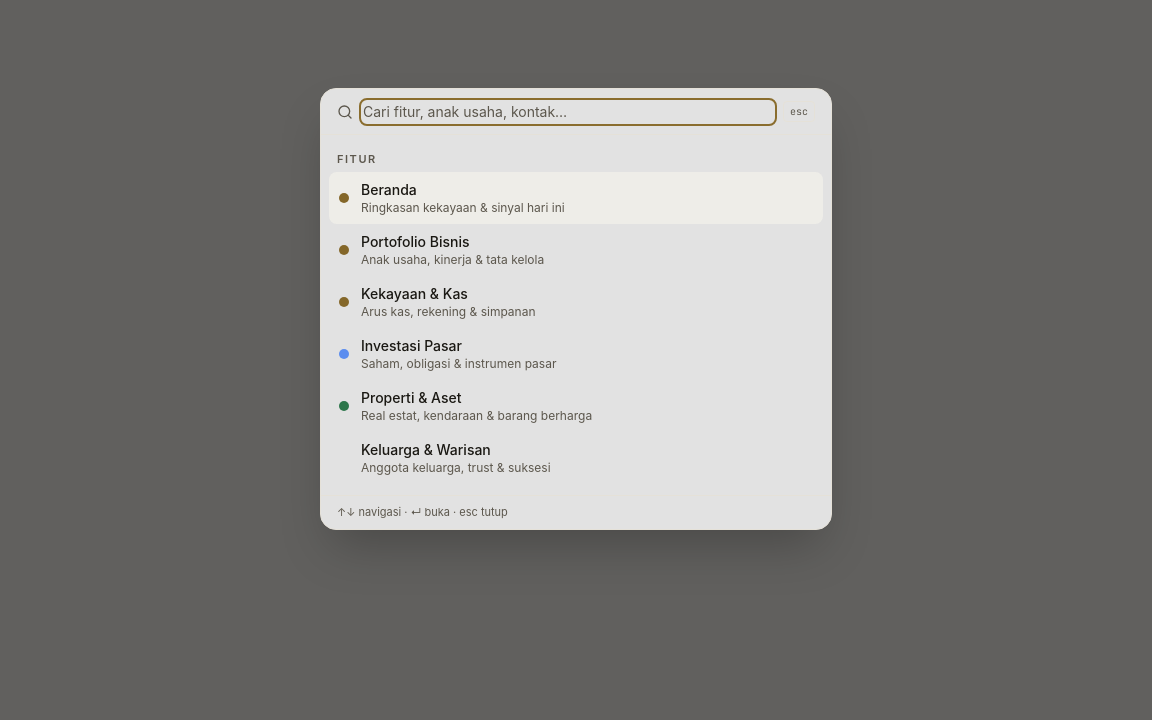
Test: CommandPalette › shows the empty state when nothing matches
In the dropdown: (568, 112) x1=363 y1=102 x2=773 y2=122, type "zzz-no-such-thing"
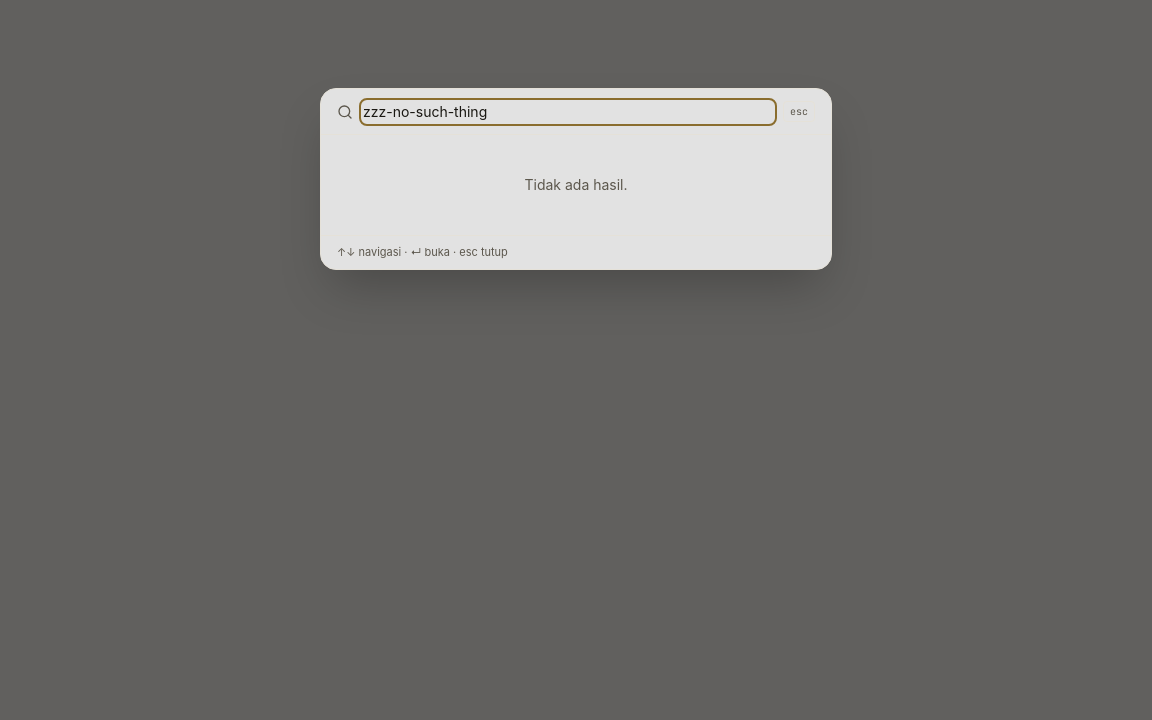
Check: the text "Tidak ada hasil." is shown, box x1=524 y1=176 x2=628 y2=193
